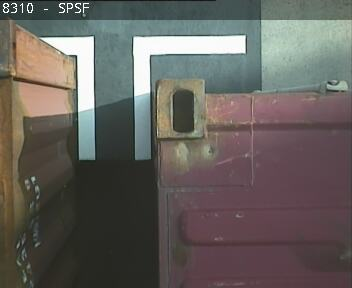groundmarker_1: (1, 35, 244, 161)
